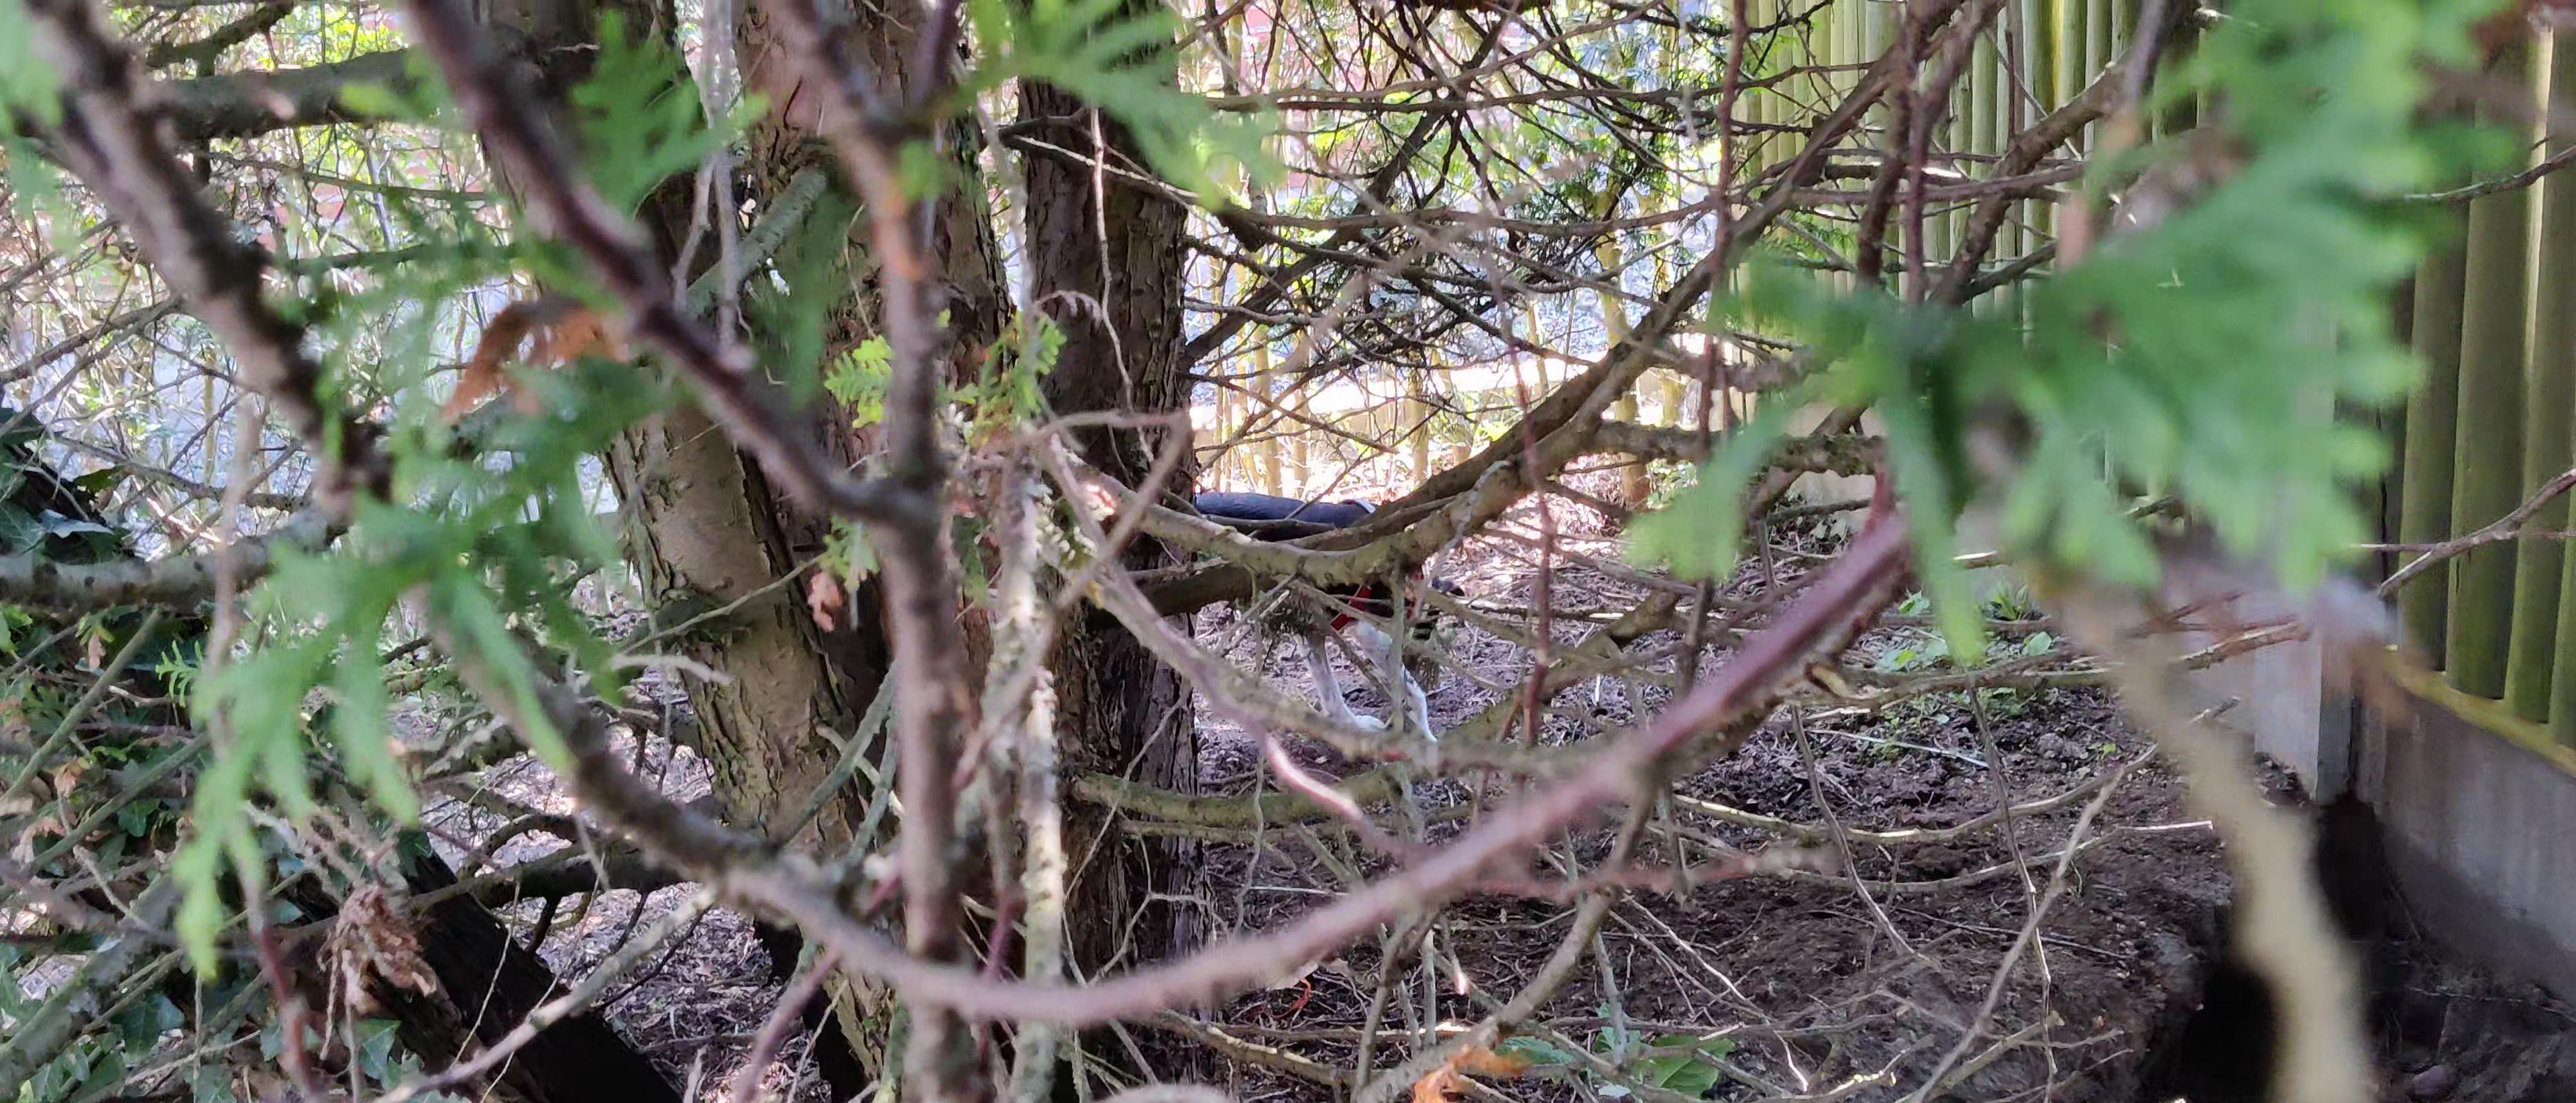Dog: (1158, 465, 1472, 778)
